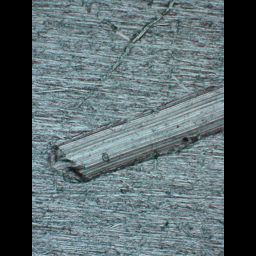d: (41, 81, 224, 187)
